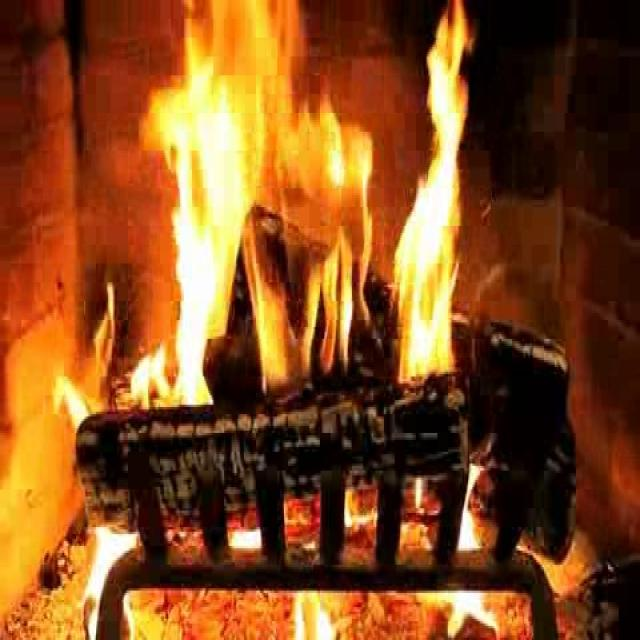fire: (141, 12, 460, 405)
